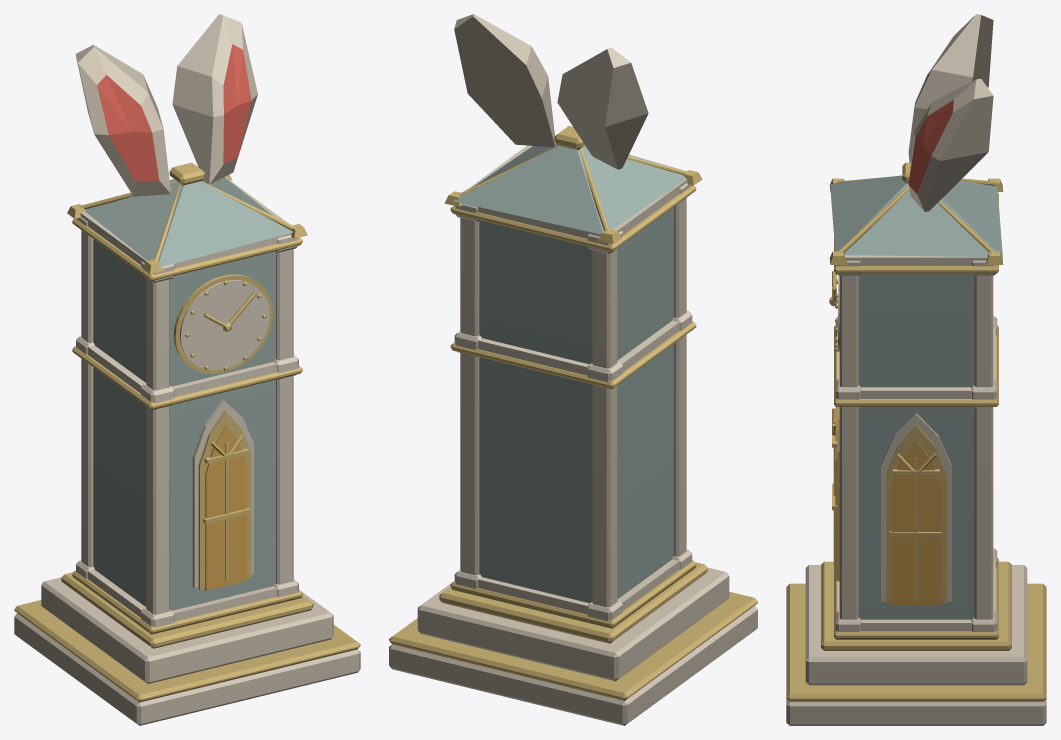
The model's file is clock-tower.glb.
The picture shows the model from 3 angles, left to right: view 1: azimuth 30°, elevation 25°; view 2: azimuth 150°, elevation 25°; view 3: azimuth 270°, elevation 25°; orthographic projection. The views are drawn at different scales.
Parts seen in each view (by area): view 1: root_mesh, ears1_mesh, ears0_mesh; view 2: root_mesh, ears1_mesh, ears0_mesh; view 3: root_mesh, ears1_mesh, ears0_mesh.
Boxes of the visible parts, x1,y1,x2,y2 form: root_mesh: [14, 162, 360, 725]; ears1_mesh: [172, 14, 257, 184]; ears0_mesh: [75, 45, 170, 196]; root_mesh: [389, 126, 757, 725]; ears1_mesh: [454, 14, 555, 147]; ears0_mesh: [557, 47, 648, 169]; root_mesh: [786, 162, 1046, 725]; ears1_mesh: [908, 78, 993, 211]; ears0_mesh: [908, 14, 993, 162].
Bounding box in the file's own units: 3.5 × 9 × 3.4.
